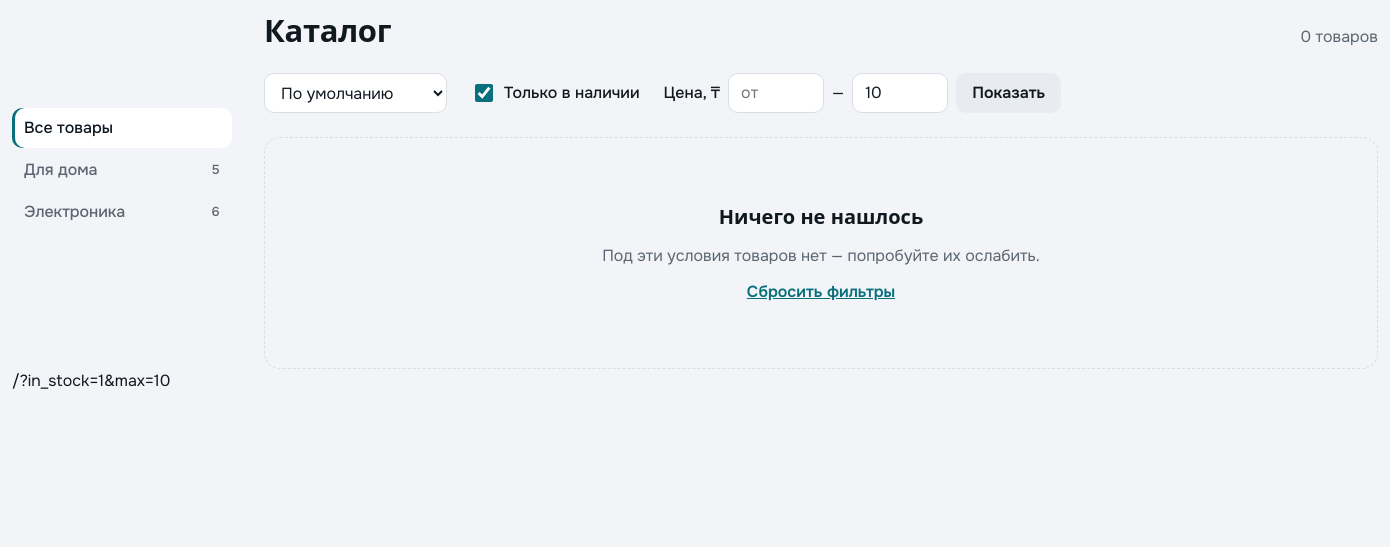
Test: ничего не нашлось из-за фильтров — предлагаем их сбросить
Expected: the text "Под эти условия товаров нет — попробуйте их ослабить." is shown, [602,244,1040,268]
Click the button "Сбросить фильтры": {"x": 821, "y": 292} [747,280,895,304]
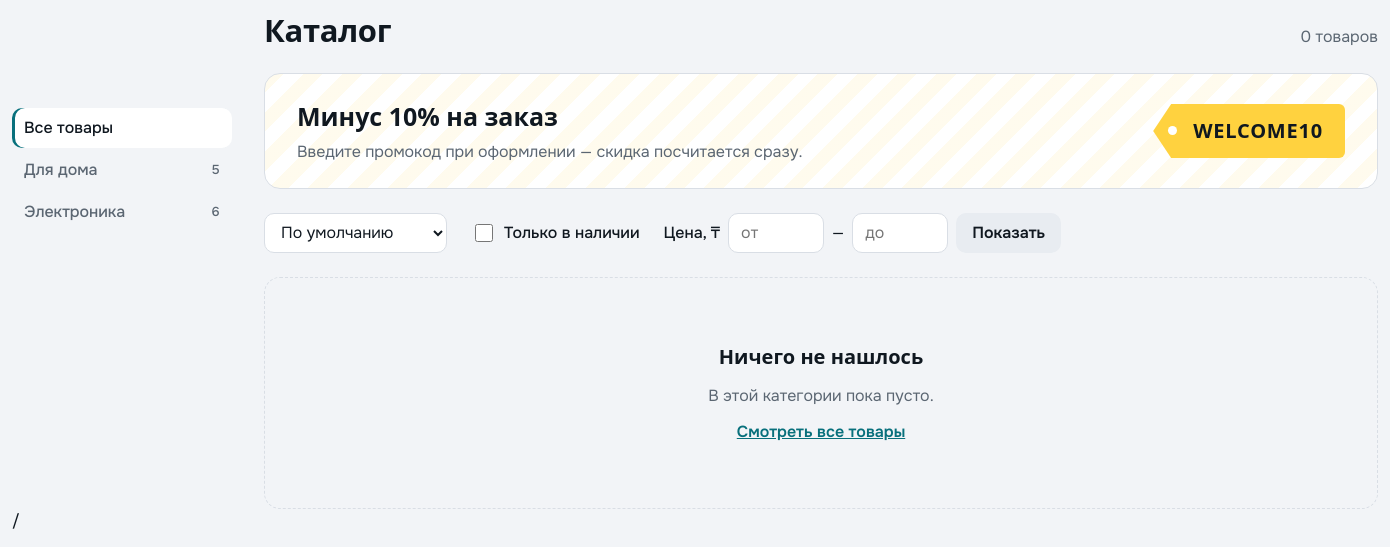
Now the text with test id "location" reads "/", box [12,510,20,531]
